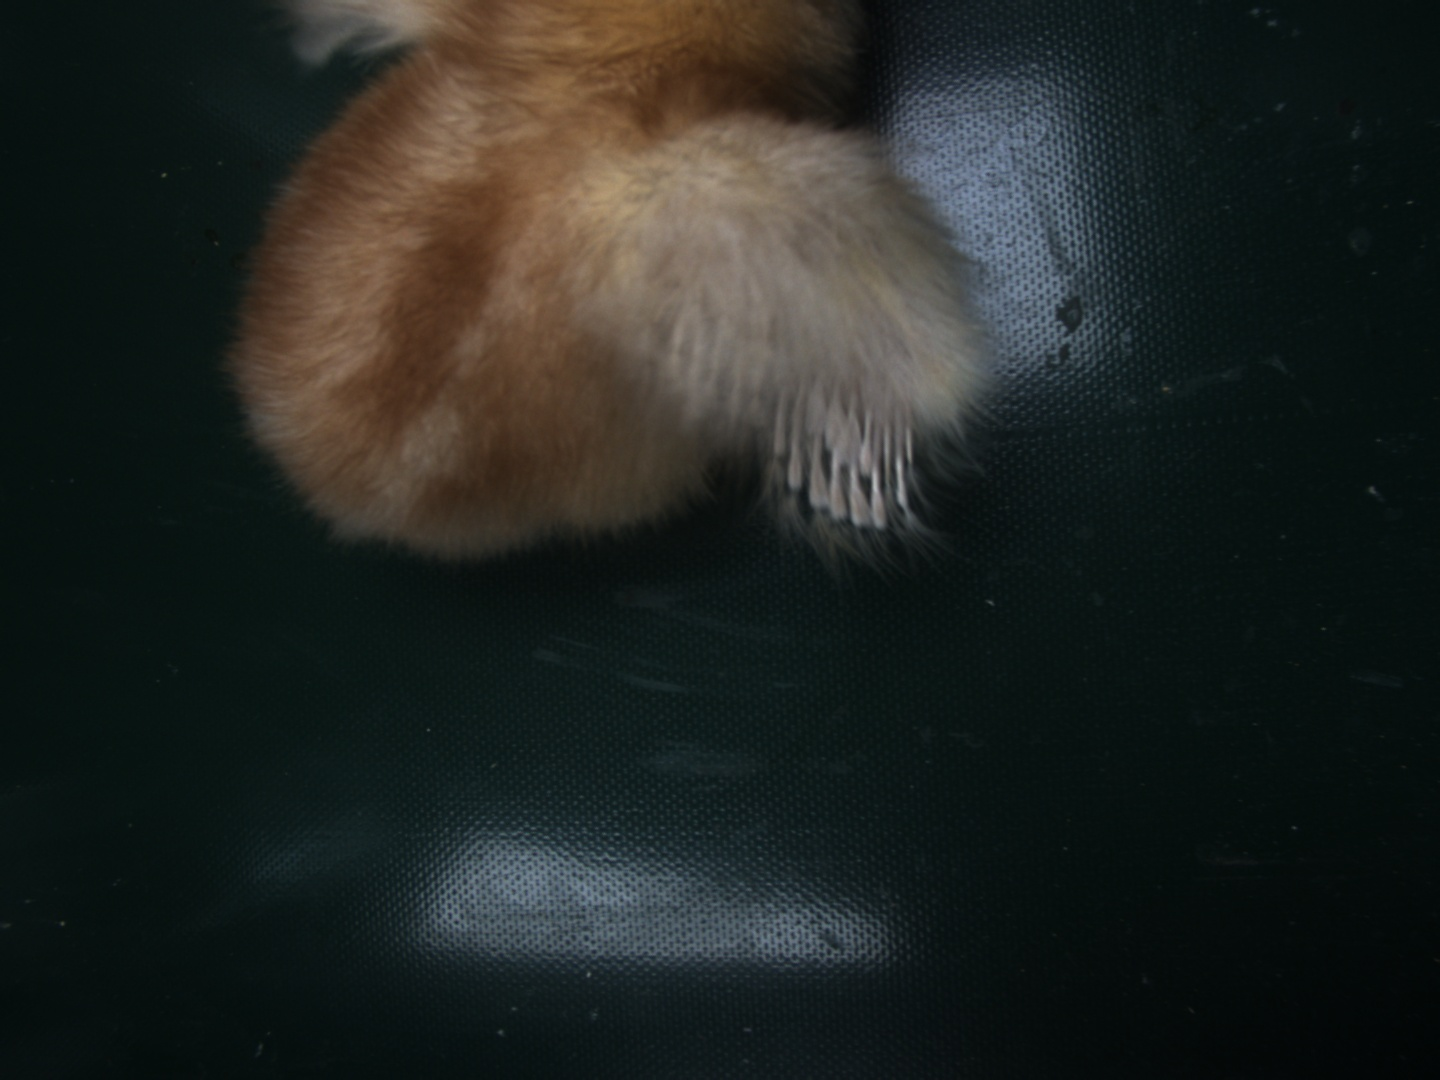female: (771, 374, 917, 532)
